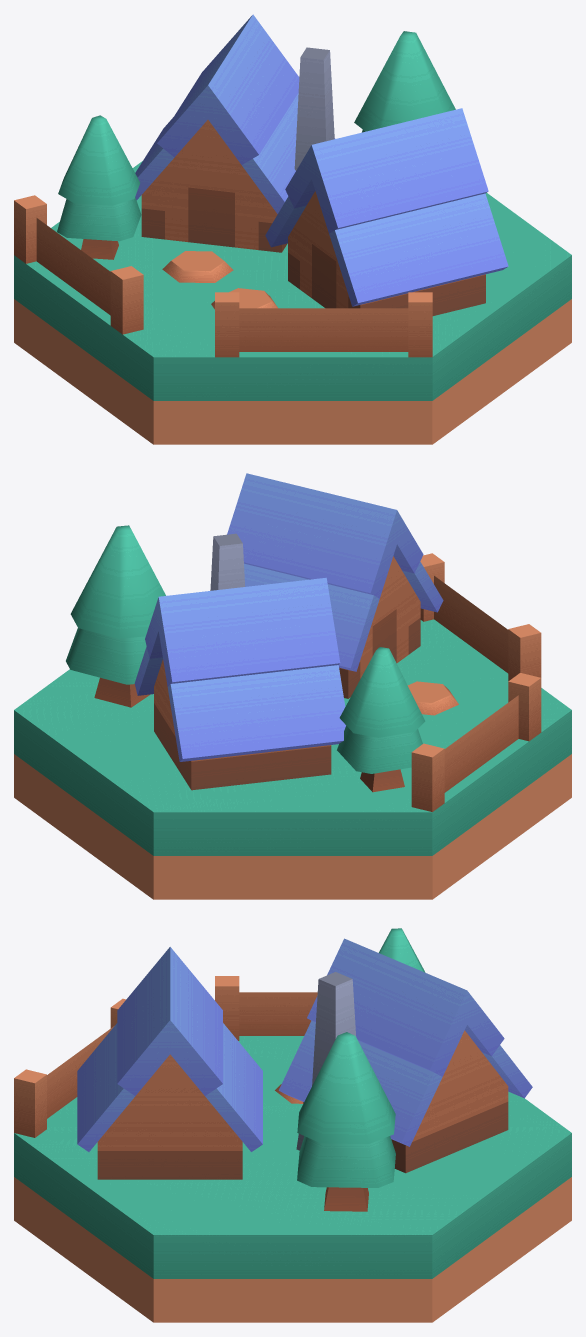
File: building-village.glb
3 renders of one model, top to bottom at view 1: azimuth 30°, elevation 25°; view 2: azimuth 150°, elevation 25°; view 3: azimuth 270°, elevation 25°, orthographic.
Parts seen in each view (by area): view 1: building-village; view 2: building-village; view 3: building-village.
Part boxes in pixels (x1,y1,x2,y2): building-village: (14,14,571,444); building-village: (14,473,571,899); building-village: (14,928,571,1322).
Size of the model in its own units: 1 by 0.6 by 1.15.
1 material, 1 textured.
